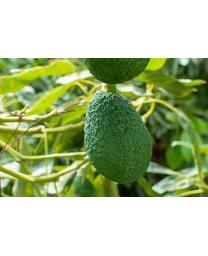avocado: (84, 91, 152, 185)
